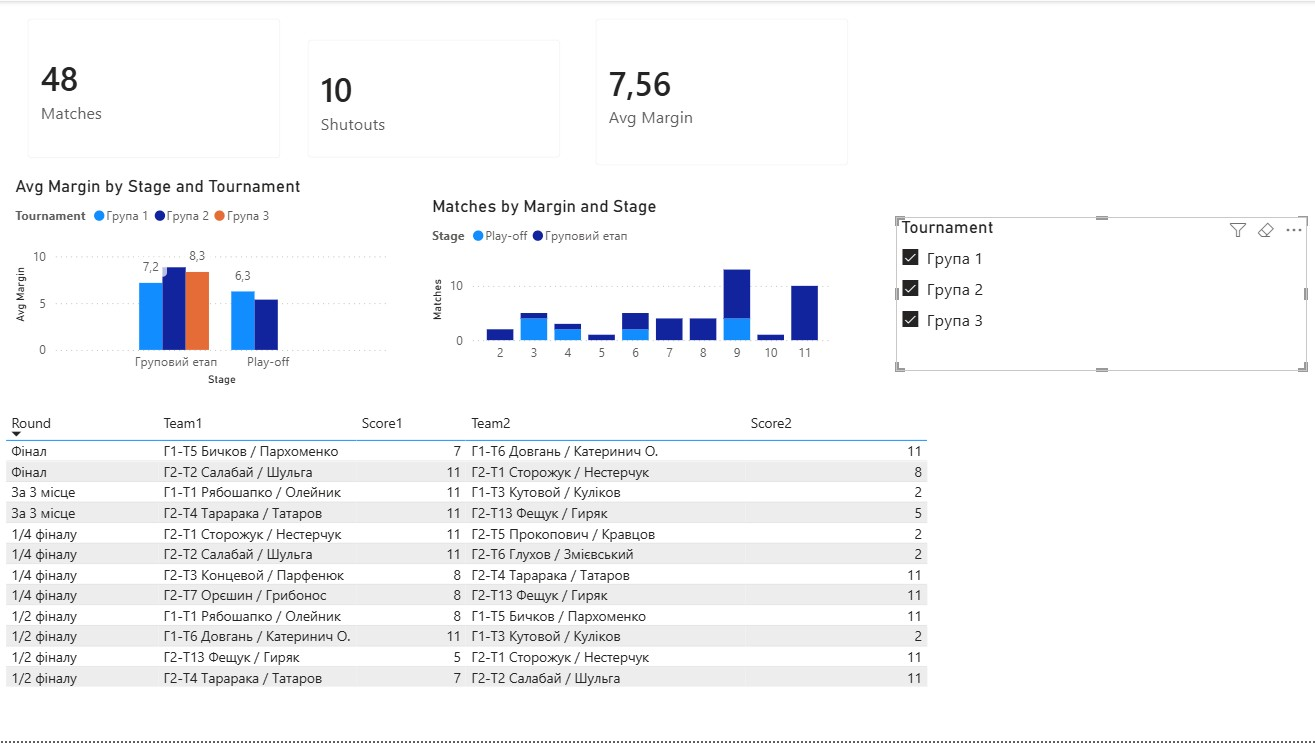

Layout of this report page (visuals, bound fields, positions):
{"tool":"powerbi","page":{"name":"Матчи","canvas":[1280,720],"ordinal":1},"visuals":[{"type":"cardVisual","fields":{"Data":["_Measures.Matches"]},"box":[9.9,0,280.3,170.1],"z":0},{"type":"cardVisual","fields":{"Data":["_Measures.Avg Margin"]},"box":[562.4,0,280.3,177.3],"z":1000},{"type":"cardVisual","fields":{"Data":["_Measures.Shutouts"]},"box":[282.1,20.6,280.3,149.6],"z":2000},{"type":"lineStackedColumnComboChart","fields":{"Category":["Fact_Matches.Margin"],"Series":["Fact_Matches.Stage"],"Y":["_Measures.Matches"]},"box":[410.1,160.3,399.4,170.1],"z":3000},{"type":"listSlicer","fields":{"Values":["Fact_Matches.Tournament"]},"box":[864.2,160.3,399.4,149.6],"z":4000},{"type":"tableEx","fields":{"Values":["Fact_Matches.Round","Fact_Matches.Team1","Fact_Matches.Score1","Fact_Matches.Team2","Fact_Matches.Score2"]},"box":[0,394.9,940.5,324.9],"z":5000},{"type":"lineClusteredColumnComboChart","fields":{"Category":["Fact_Matches.Stage"],"Y":["_Measures.Avg Margin"],"Series":["Fact_Matches.Tournament"]},"box":[9.7,122.6,372.5,208.1],"z":6000}]}

Visuals, with their boxes in screenshot pixels (x1, y1, x2, y2), scaled from the page's 1280x720 canvas onto the 1315x748 screenshot:
cardVisual - _Measures.Matches: (left=10, top=0, right=298, bottom=177)
cardVisual - _Measures.Avg Margin: (left=578, top=0, right=866, bottom=184)
cardVisual - _Measures.Shutouts: (left=290, top=21, right=578, bottom=177)
lineStackedColumnComboChart - Fact_Matches.Margin x Fact_Matches.Stage: (left=421, top=167, right=832, bottom=343)
listSlicer - Fact_Matches.Tournament: (left=888, top=167, right=1298, bottom=322)
tableEx - Fact_Matches.Round x Fact_Matches.Team1: (left=0, top=410, right=966, bottom=747)
lineClusteredColumnComboChart - Fact_Matches.Stage x _Measures.Avg Margin: (left=10, top=127, right=393, bottom=344)
